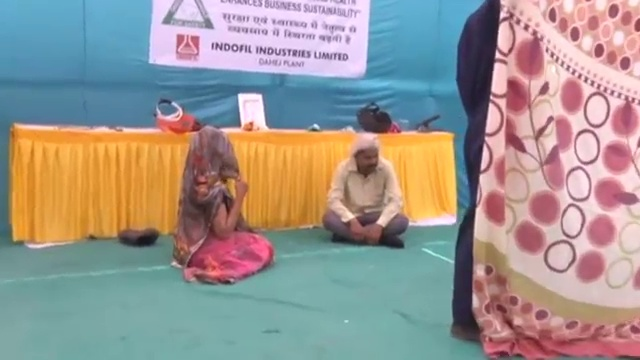helmet_off: (194, 128, 234, 174), (353, 136, 381, 176)
person: (172, 129, 276, 285), (450, 1, 489, 347), (322, 135, 410, 247)
